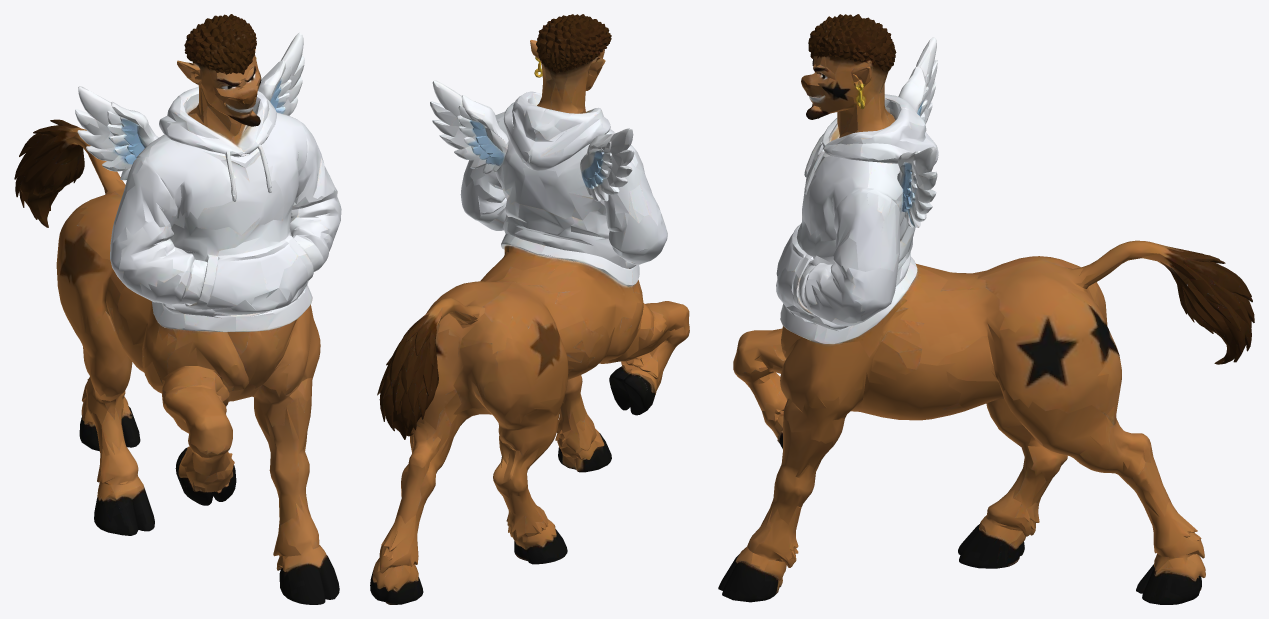
Rendered from centaur-bull.glb.
3 renders of one model, left to right at view 1: azimuth 30°, elevation 25°; view 2: azimuth 150°, elevation 25°; view 3: azimuth 270°, elevation 25°, orthographic. The views are drawn at different scales.
Parts seen in each view (by area): view 1: output_unwrapped; view 2: output_unwrapped; view 3: output_unwrapped.
Part boxes in pixels (bbox=[...]): output_unwrapped: bbox=[14, 14, 341, 604]; output_unwrapped: bbox=[370, 14, 689, 604]; output_unwrapped: bbox=[718, 14, 1254, 604].
Size of the model in its own units: 0.8363 by 1.9 by 1.67.
Materials: 1 (1 with a texture image).
